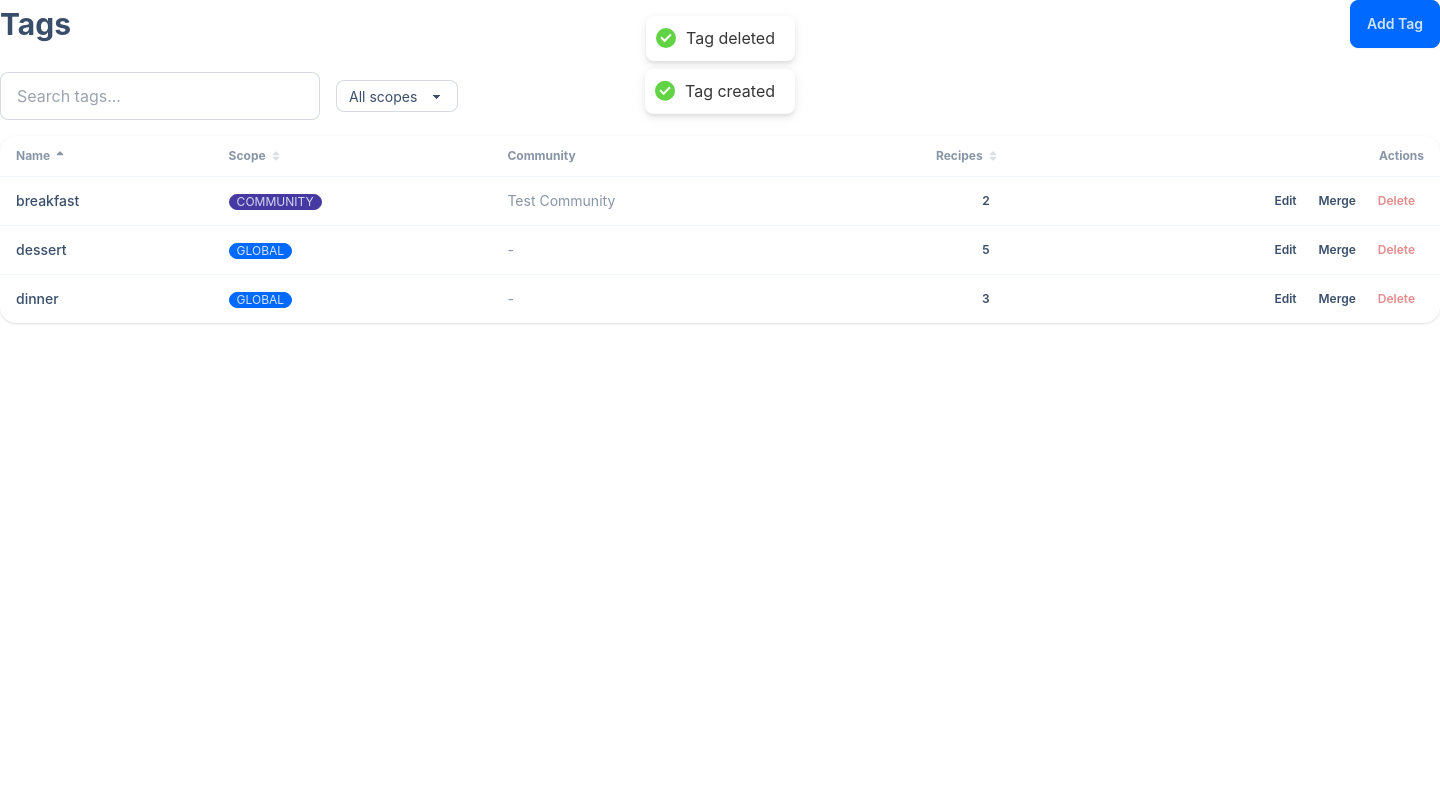
Test: AdminTagsPage › should open merge modal when Merge is clicked
The width and height of the screenshot is (1440, 810).
Check: the text "dessert" is shown, box [0,226,213,274]
Click the button "Merge" in the row of "dessert" at (1337, 250), box [1310,238,1365,262]
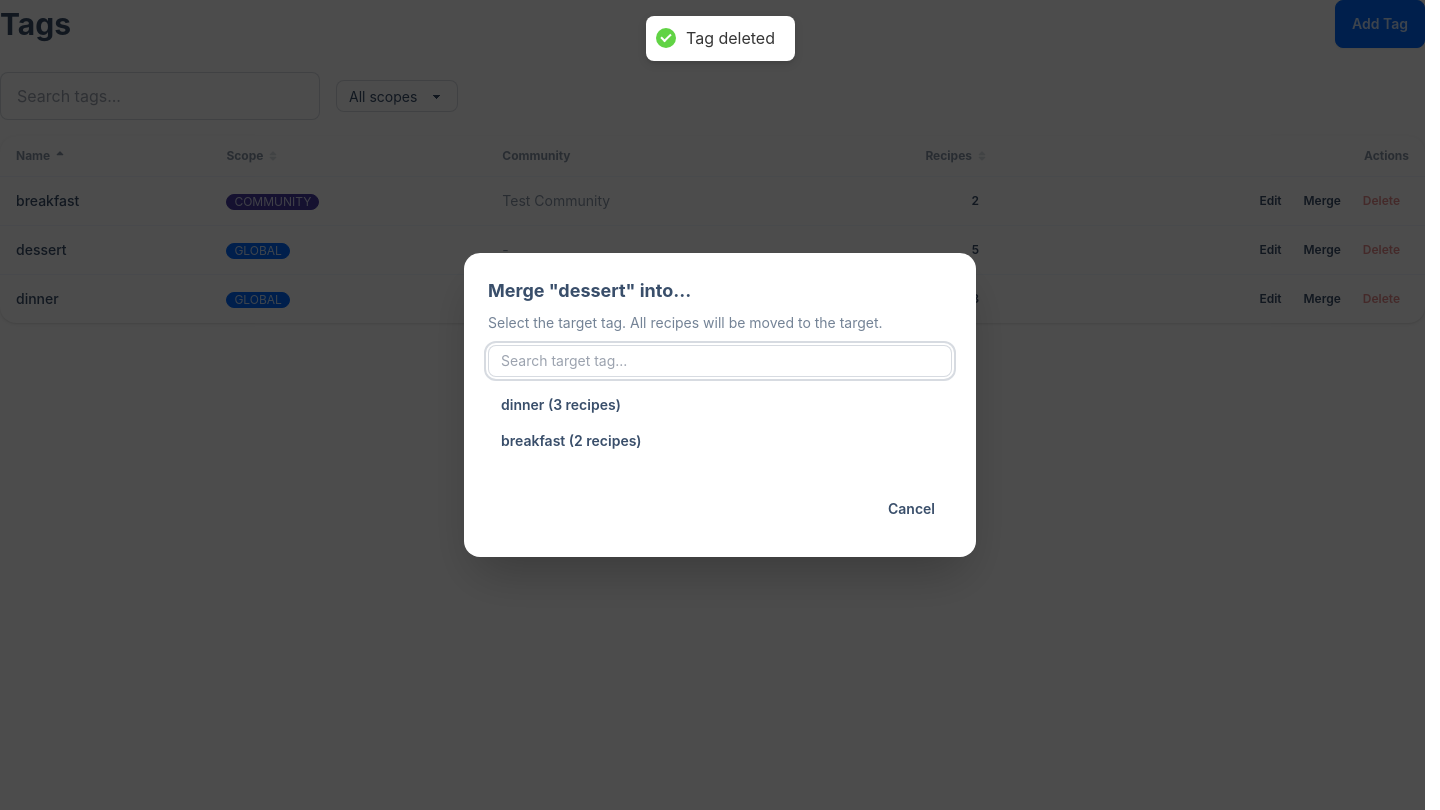
Check: the heading "Merge \"dessert\" into..." is shown, box [488,280,691,301]
